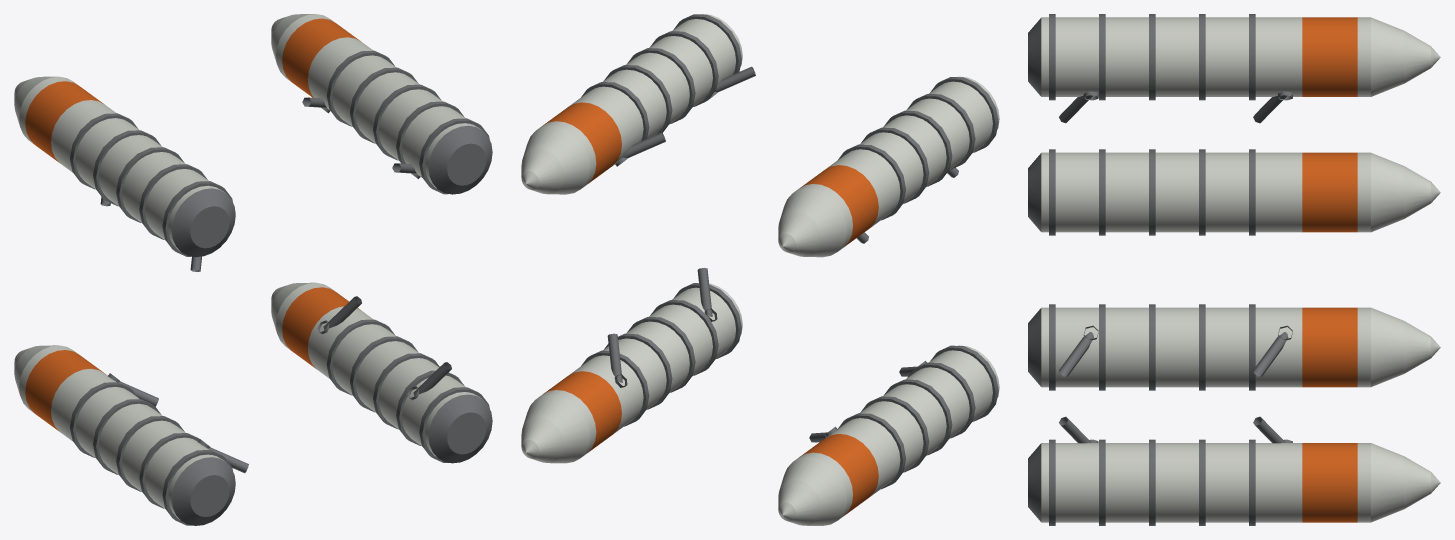
3 renders of one model, left to right at view 1: azimuth 30°, elevation 25°; view 2: azimuth 150°, elevation 25°; view 3: azimuth 270°, elevation 25°, orthographic. The views are drawn at different scales.
Parts seen in each view (by area): view 1: u73l_hx; view 2: u73l_hx; view 3: u73l_hx.
Part boxes in pixels (x1,y1,x2,y2): u73l_hx: (14,14,492,525); u73l_hx: (521,14,999,525); u73l_hx: (1028,14,1440,525).
Size of the model in its own units: 3.66 by 3.66 by 3.72.
